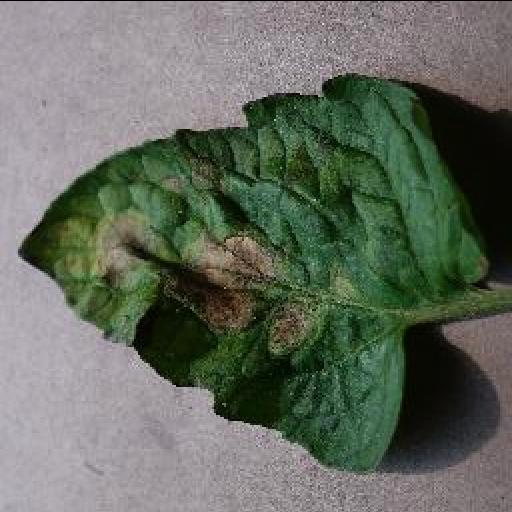disease_tomato: (16, 68, 494, 478)
